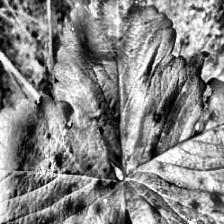Leaf Spot: (52, 0, 177, 175), (123, 51, 224, 224), (0, 95, 127, 224)
